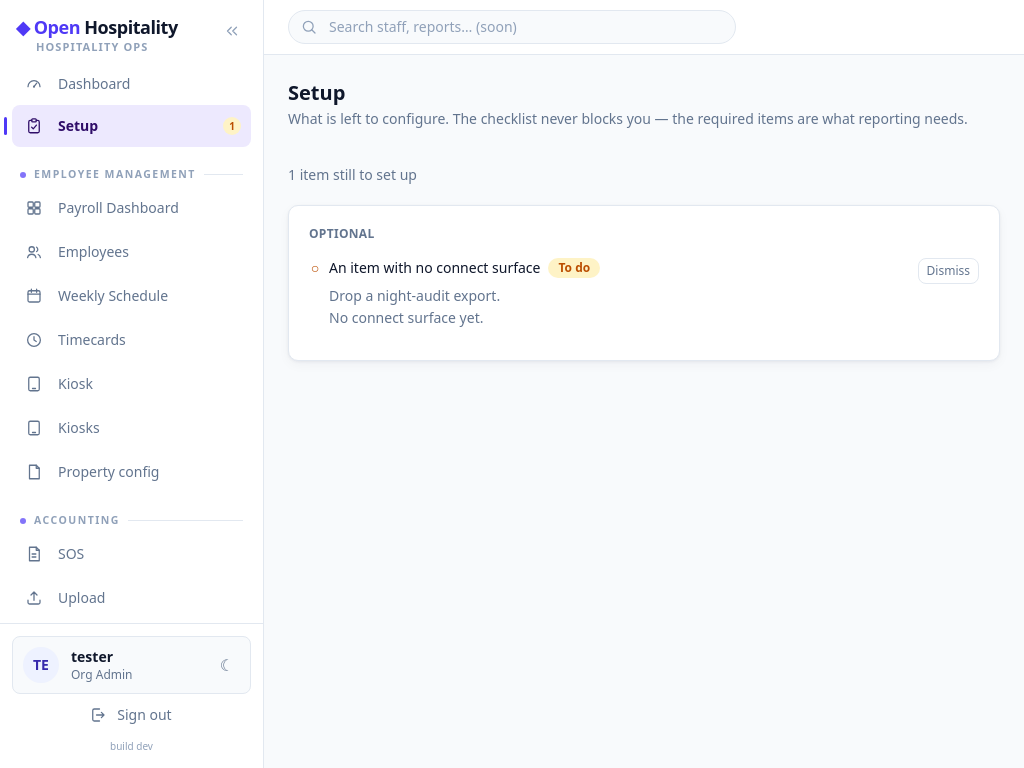
ChecklistPage — dismissal › surfaces a refused dismissal instead of silently doing nothing
Click the button with aria-label "dismiss an item with no connect surface": (948,271) x1=918 y1=258 x2=979 y2=284
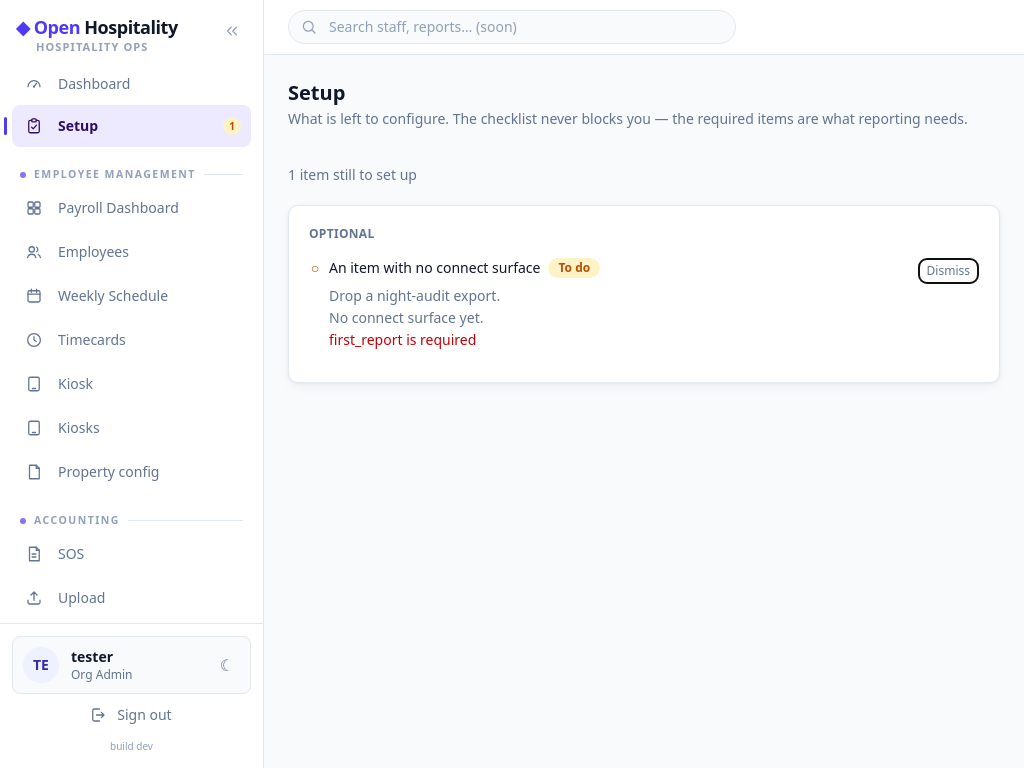
Check: the text "first_report is required" is shown, box x1=329 y1=330 x2=476 y2=349
